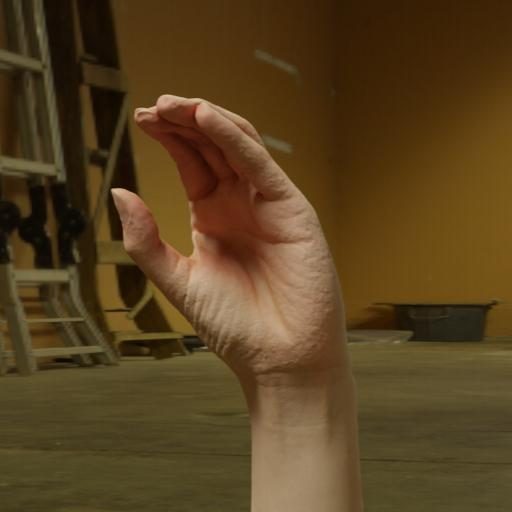C: (100, 83, 376, 512)
